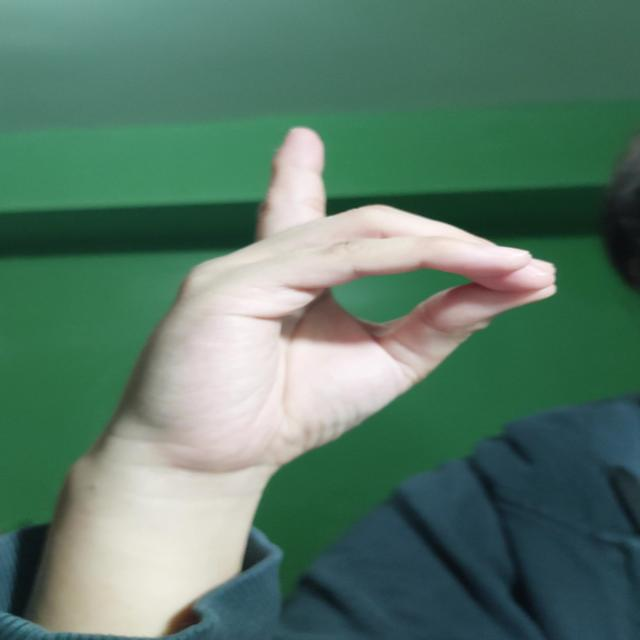D: (93, 127, 558, 472)
